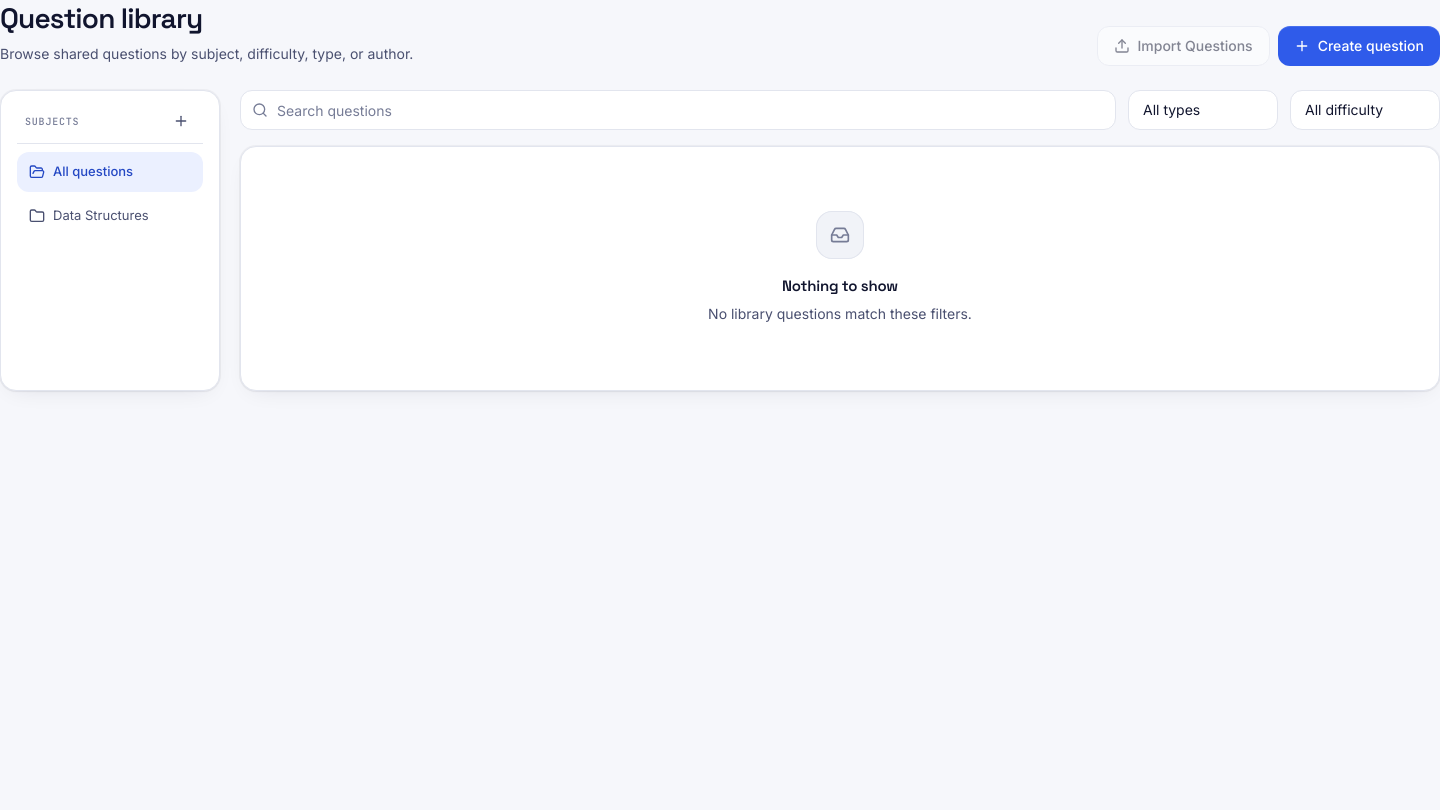
Test: QuestionLibraryPage - Import Questions Entry Point › Import Questions button is enabled when a subject folder is selected and opens the dialog
The width and height of the screenshot is (1440, 810).
// Select the subject folder
Click the button "Data Structures".
click(110, 216)  # box [17,196,203,236]
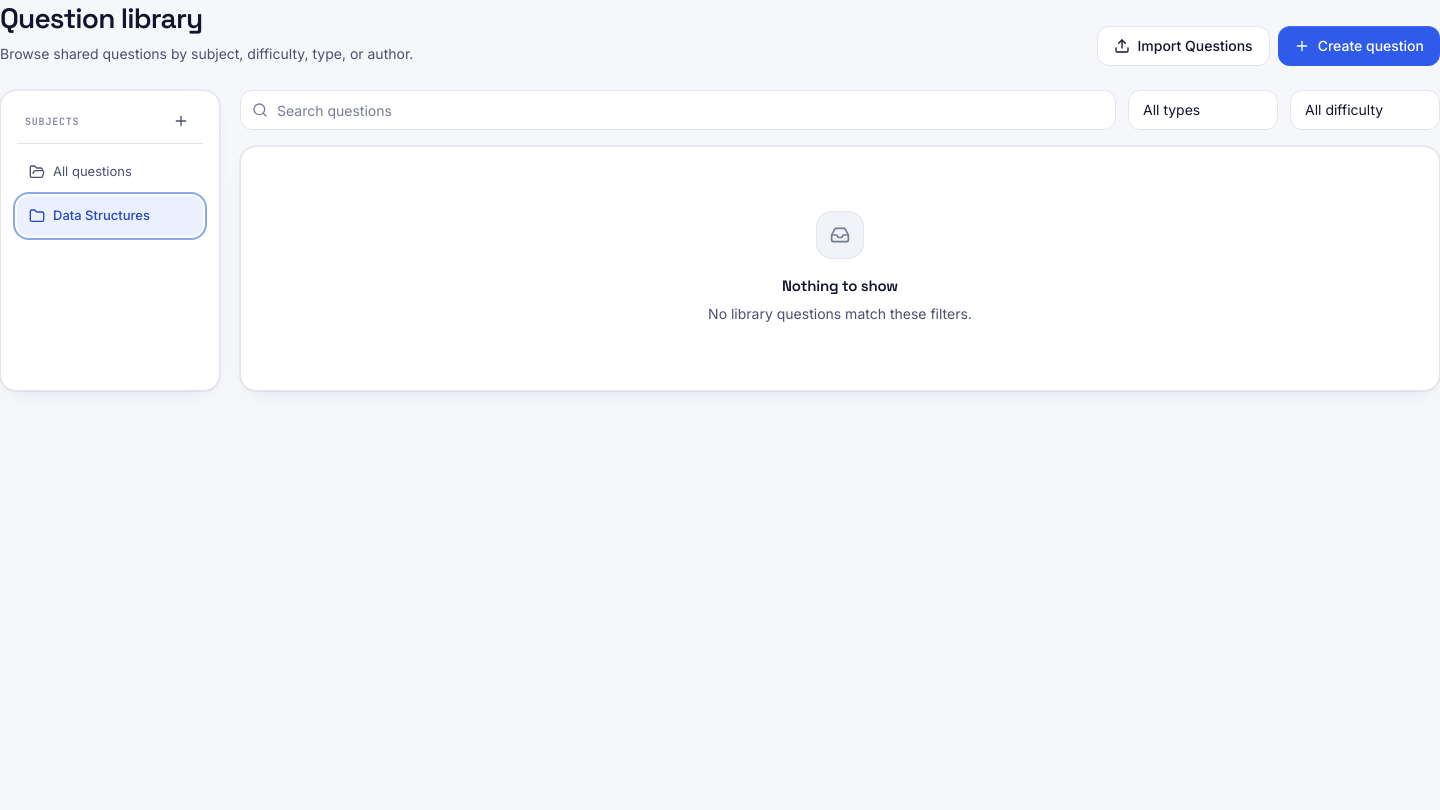
Expected: the button "Import Questions" is enabled
Click the button "Import Questions".
click(1183, 46)  # box [1096,26,1270,66]
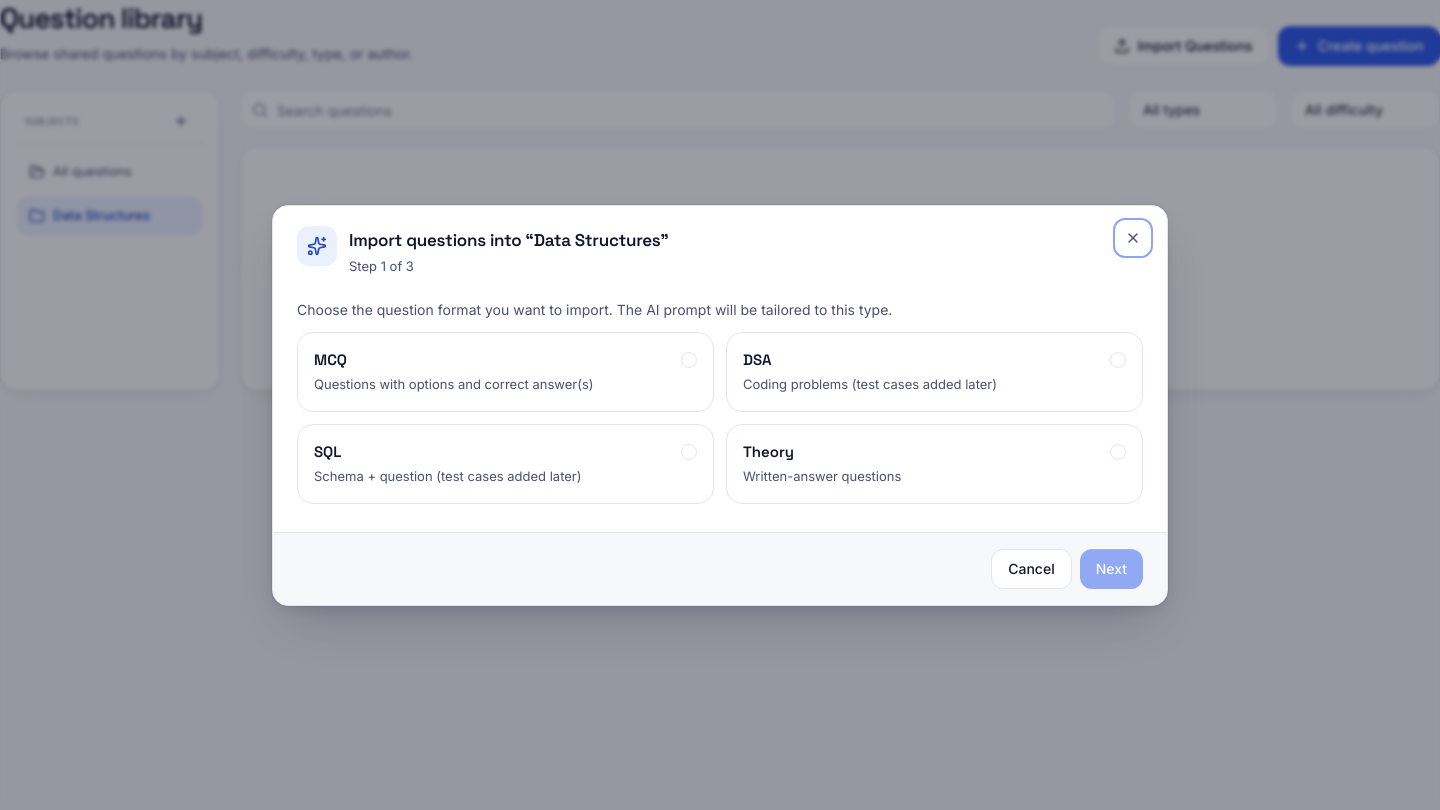
Expected: the dialog is shown, [272,204,1168,606]
Expected: the heading "Import questions into “Data Structures”" is shown, [349,228,668,250]
